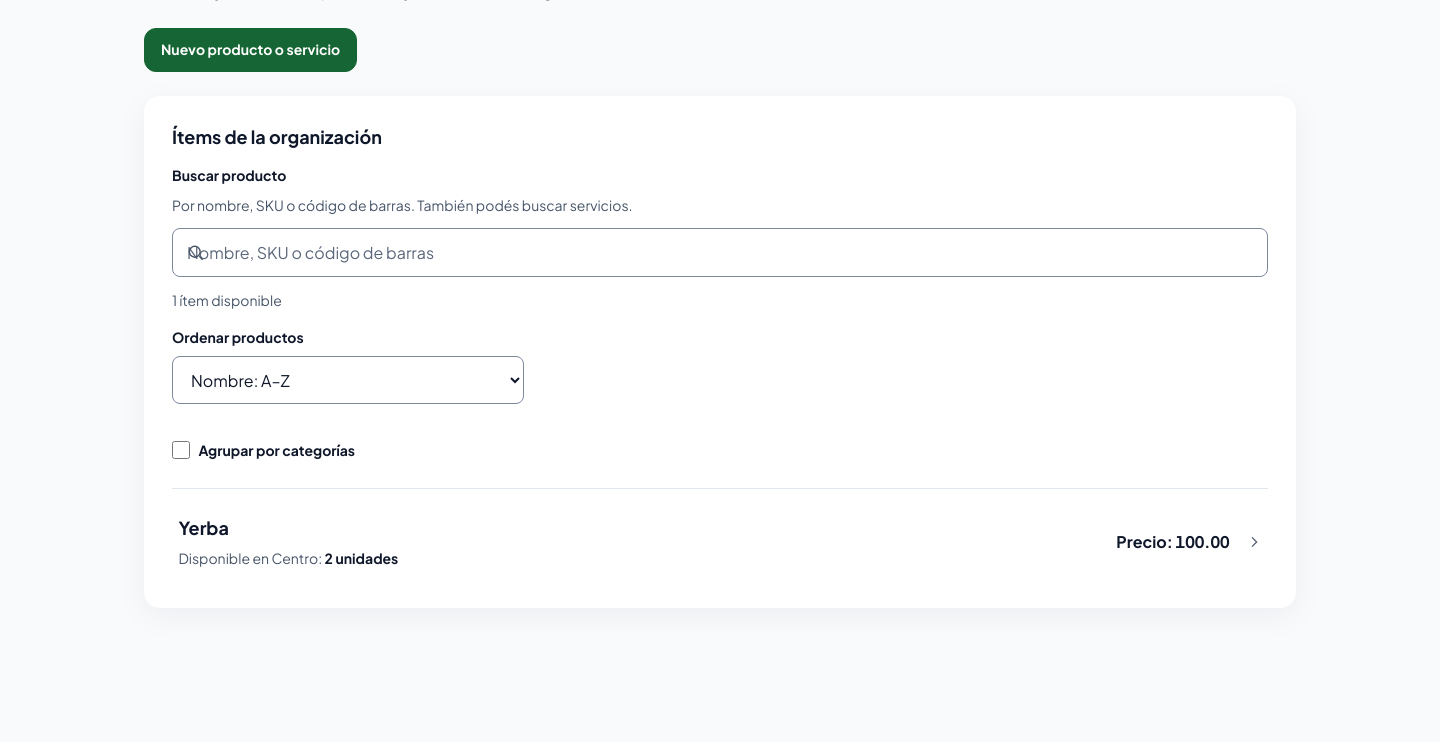
Test: reveals product details and stock controls only after selecting the product
Expected: the button "Editar Yerba" is not shown
Expected: the text "Precio: 100.00" is shown, [1116,530,1230,554]
Click the text "Yerba" at x=204, y=528, box [178,516,229,539]
(page scrolled)
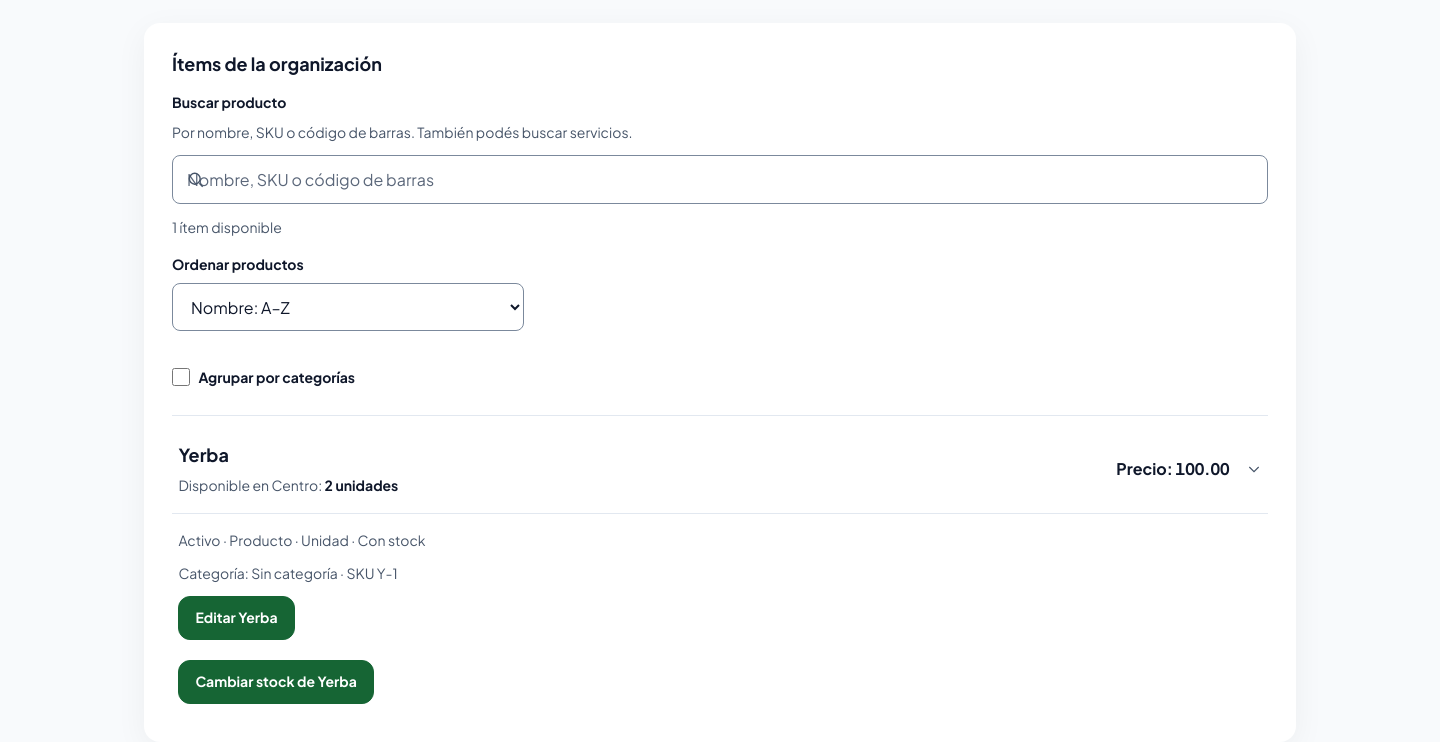
Expected: the button "Editar Yerba" is shown, [178,596,295,640]
Click the button "Cambiar stock de Yerba" at x=276, y=682, box [178,660,374,704]
(page scrolled)
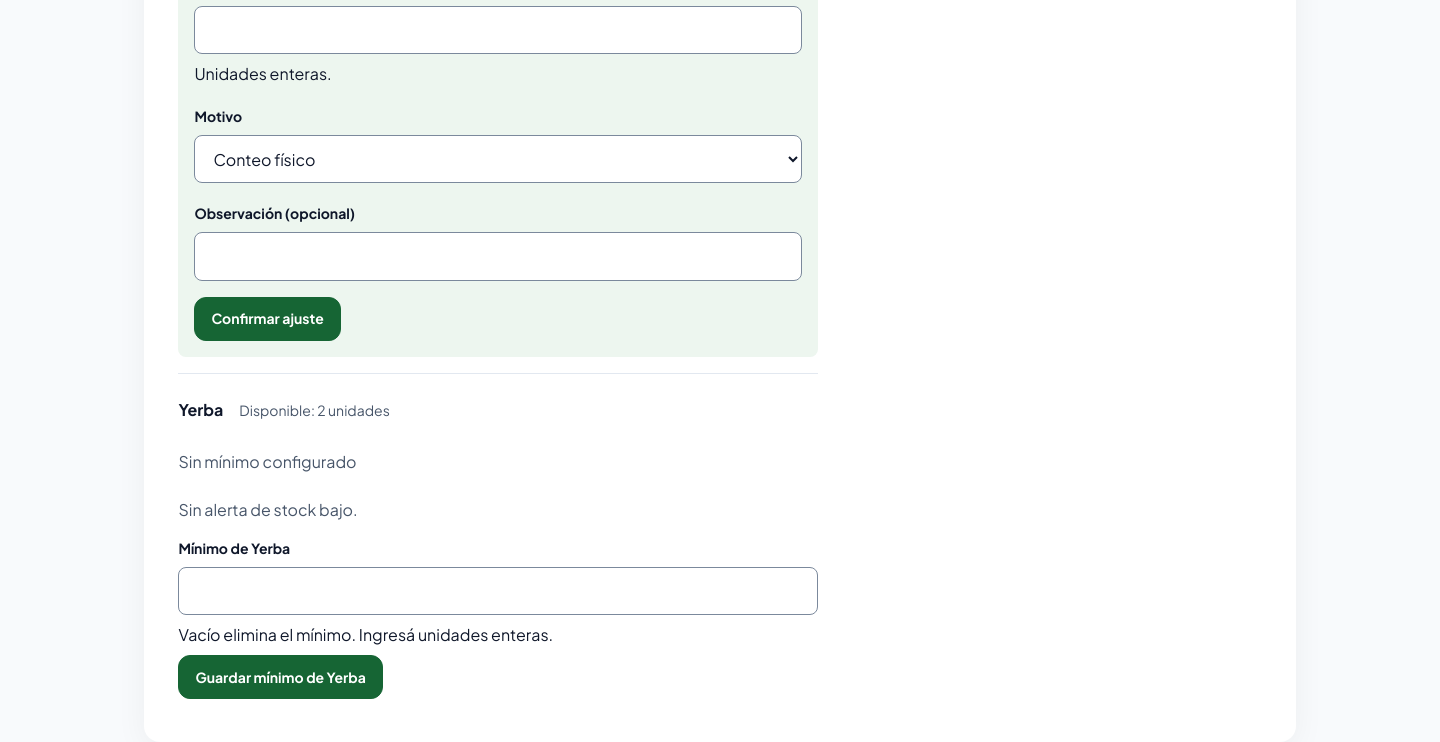
Expected: the button "Confirmar ajuste" is shown, [194,297,341,341]
Expected: the field labelled "Mínimo de Yerba" is shown, [178,567,818,616]
